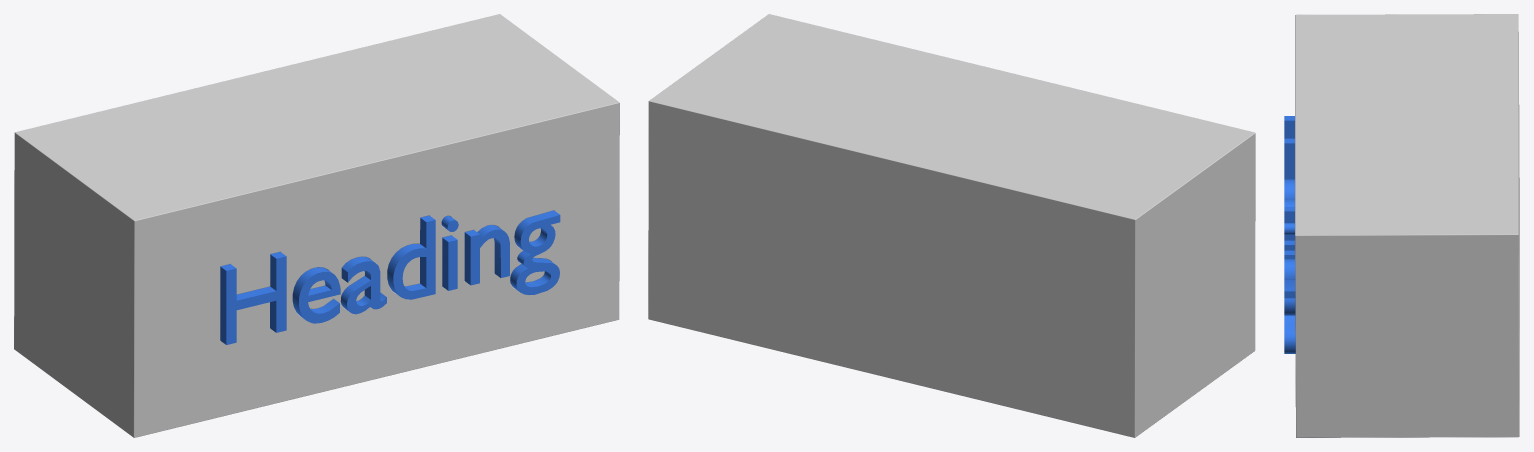
File: MenuBox.glb
The picture shows the model from 3 angles, left to right: view 1: azimuth 30°, elevation 25°; view 2: azimuth 150°, elevation 25°; view 3: azimuth 270°, elevation 25°; orthographic projection. The views are drawn at different scales.
Parts seen in each view (by area): view 1: Cube, Heading; view 2: Cube; view 3: Cube, Heading.
Boxes of the visible parts, left/top/right/bottom form: Cube: left=14, top=14, right=619, bottom=437; Heading: left=220, top=210, right=560, bottom=344; Cube: left=648, top=14, right=1255, bottom=437; Cube: left=1295, top=14, right=1519, bottom=437; Heading: left=1284, top=116, right=1295, bottom=353.
Size of the model in its own units: 4.67 by 2.1 by 2.1.
